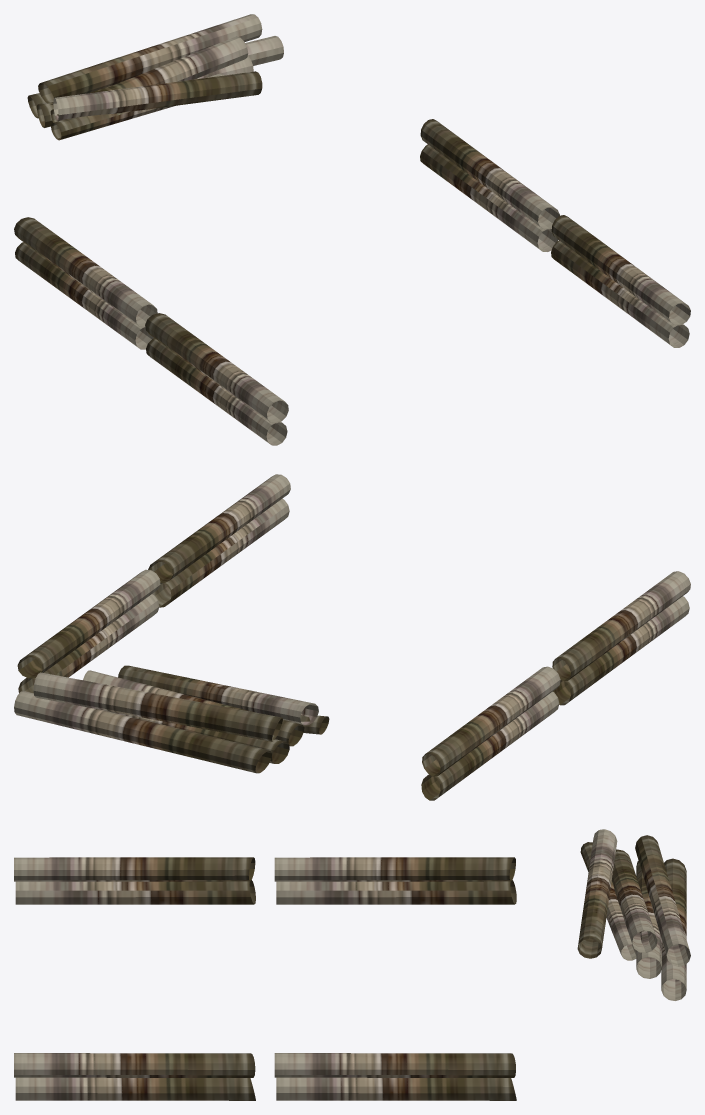
Rendered from sherman_hull_m11.obj.
The picture shows the model from 3 angles, top to bottom: view 1: azimuth 30°, elevation 25°; view 2: azimuth 150°, elevation 25°; view 3: azimuth 270°, elevation 25°; orthographic projection.
Parts seen in each view (by area): view 1: sherman_hull_m11; view 2: sherman_hull_m11; view 3: sherman_hull_m11.
Part boxes in pixels (bbox=[...]): sherman_hull_m11: bbox=[14, 14, 690, 445]; sherman_hull_m11: bbox=[14, 474, 690, 800]; sherman_hull_m11: bbox=[14, 829, 690, 1100].
Size of the model in its own units: 3.04 by 0.7655 by 4.21.
Materials: 1 (1 with a texture image).
